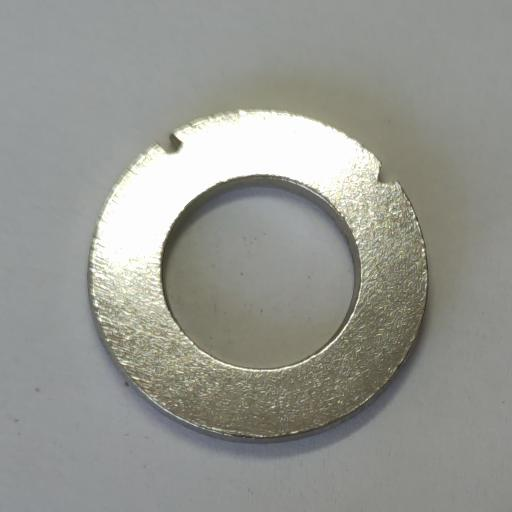burr: (375, 160, 402, 188), (154, 131, 184, 156)
